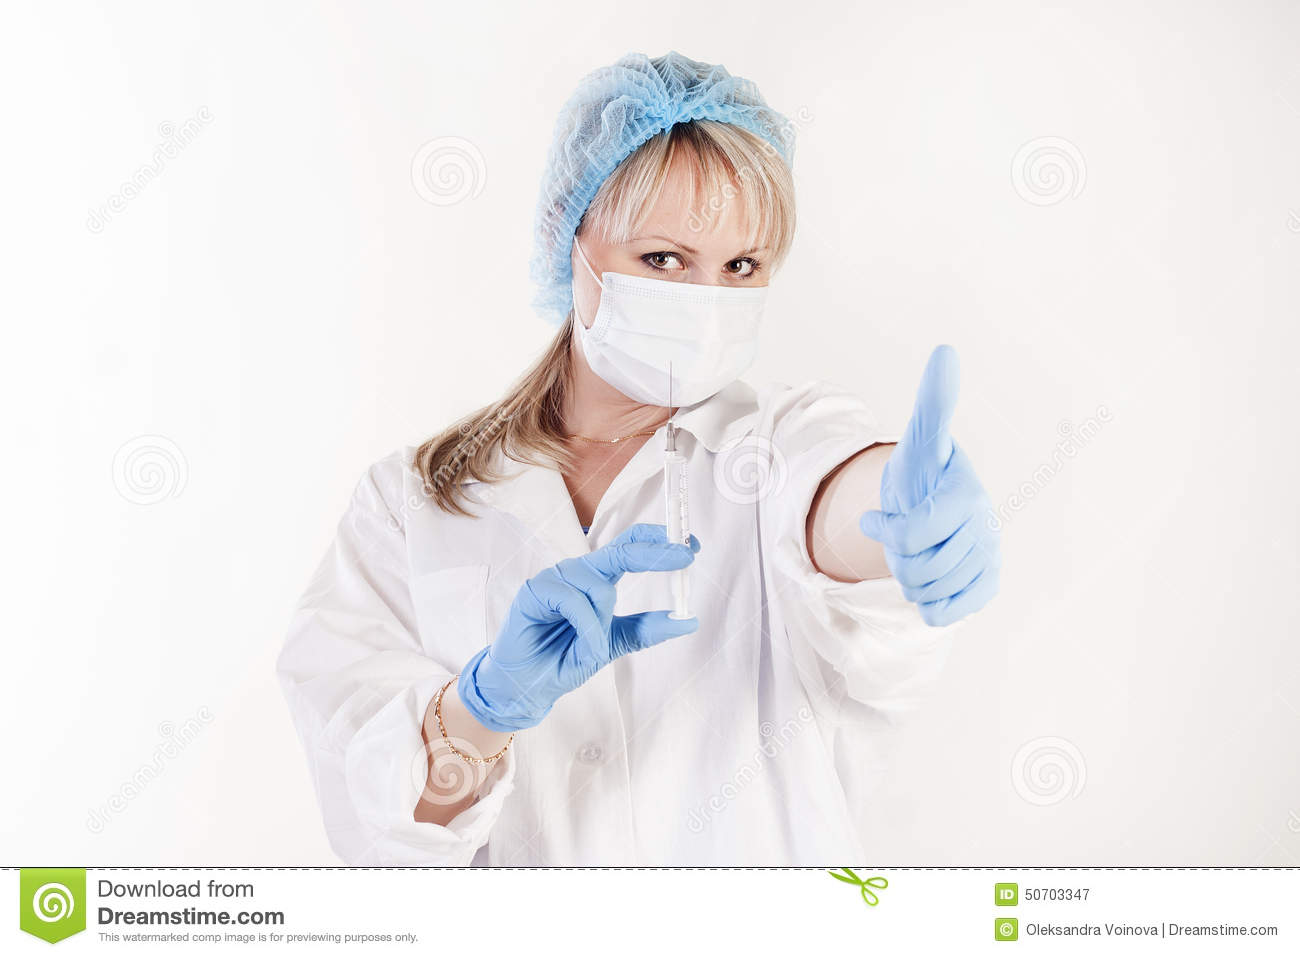mask: (585, 277, 781, 419)
